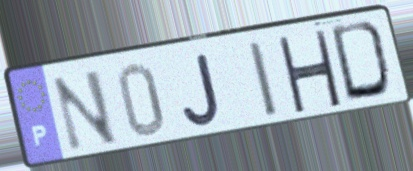0: (115, 61, 169, 141)
D: (327, 18, 397, 105)
H: (274, 29, 344, 114)
I: (245, 38, 283, 121)
J: (179, 50, 224, 129)
N: (49, 67, 121, 155)
